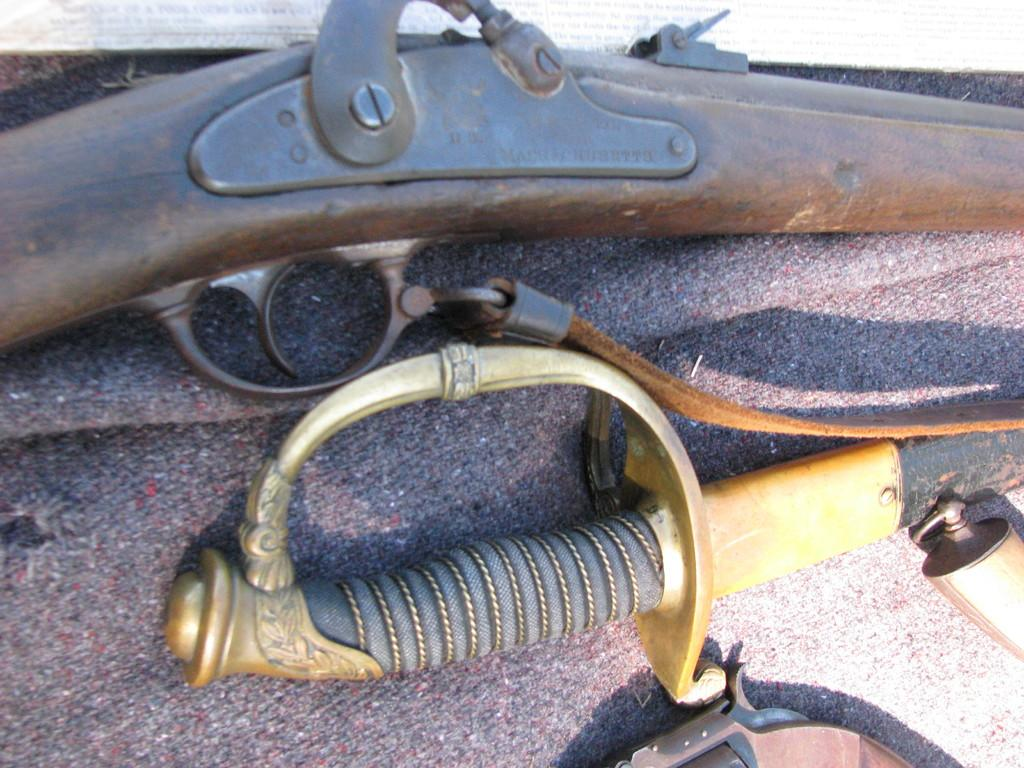Rifle: (0, 0, 1023, 442)
